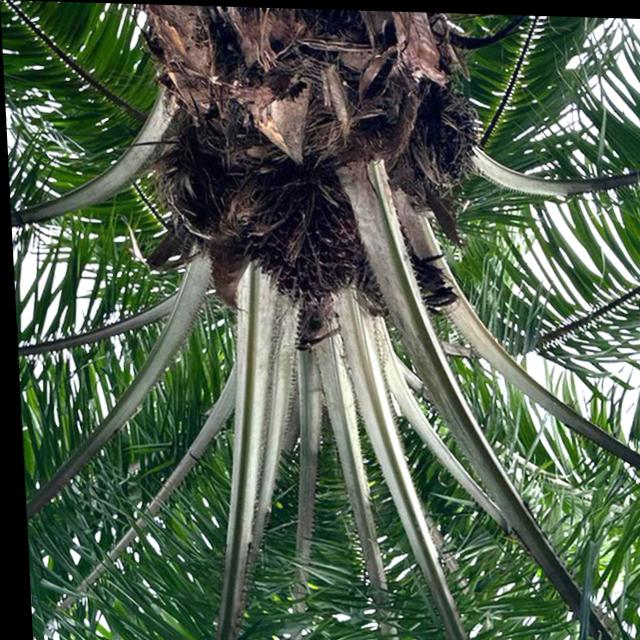almost: (242, 171, 364, 307), (410, 86, 486, 190)
